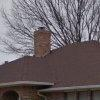Chimney: (29, 21, 55, 58)
